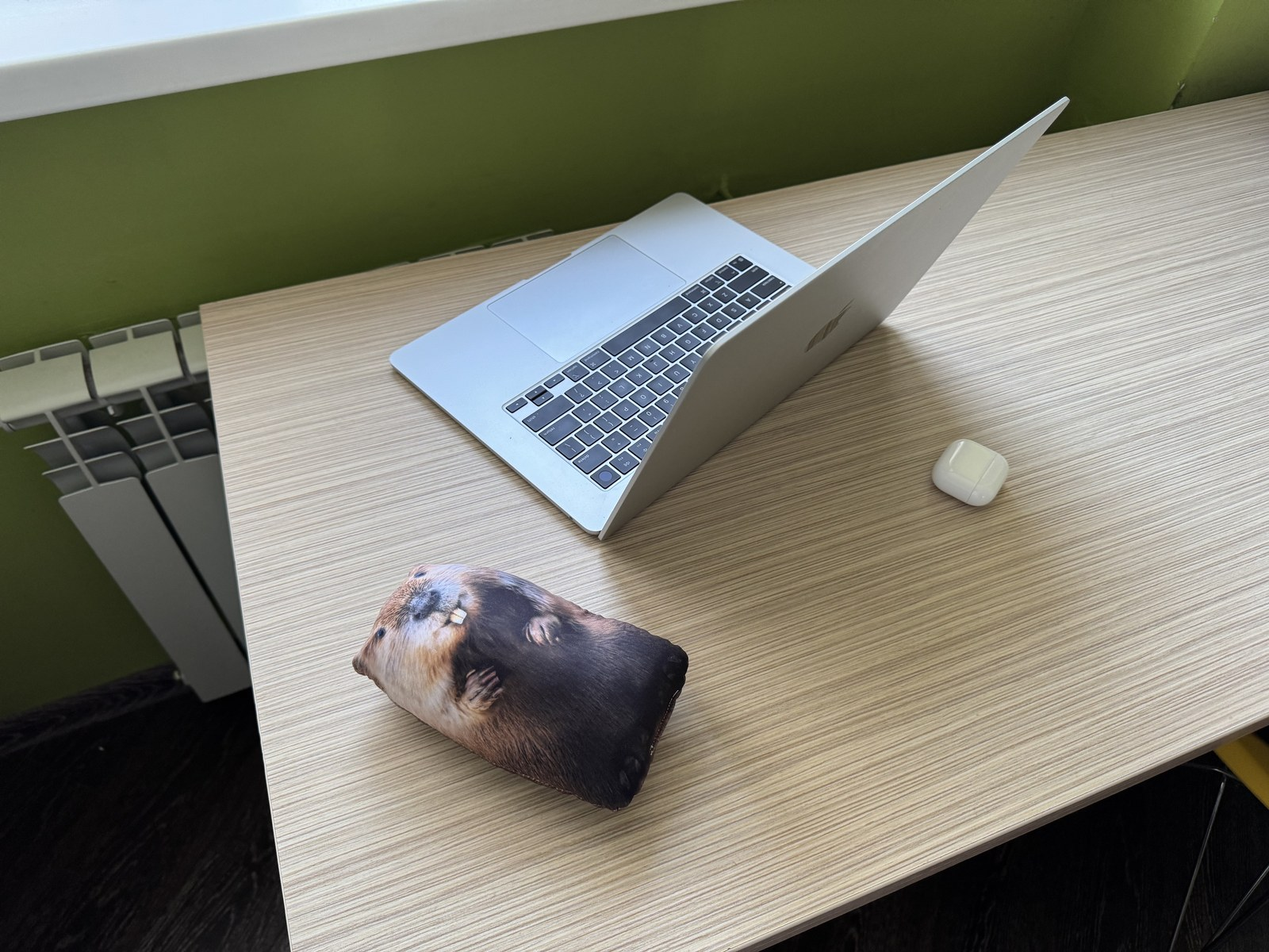laptop: (388, 94, 1071, 542)
